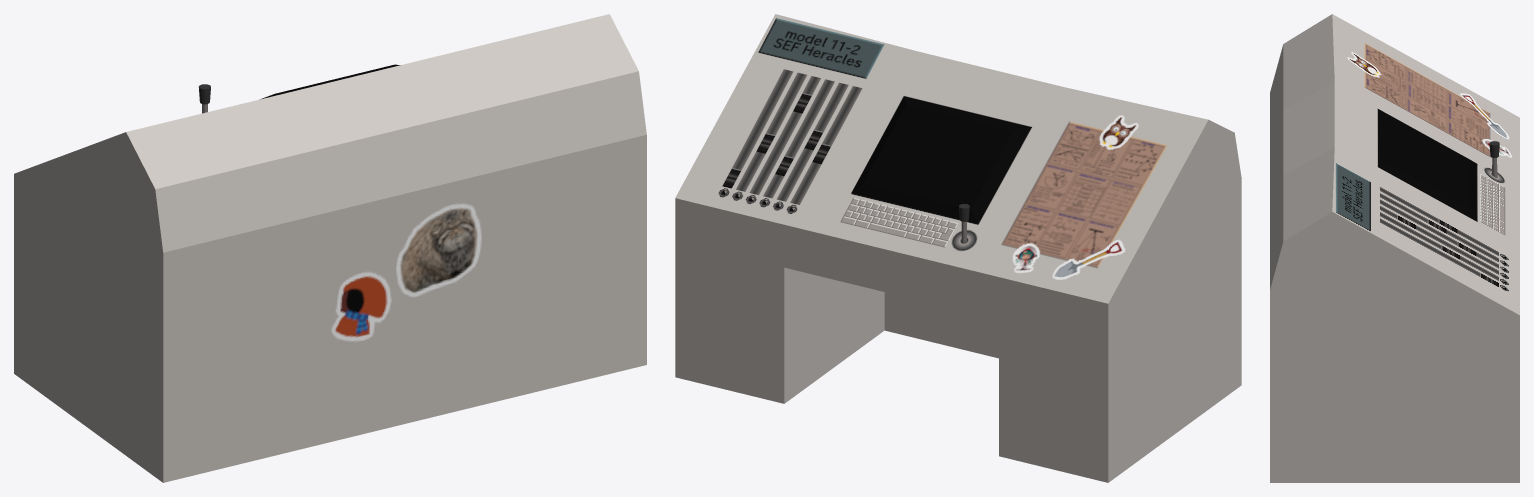
Rendered from Pilot Console.fbx.
3 renders of one model, left to right at view 1: azimuth 30°, elevation 25°; view 2: azimuth 150°, elevation 25°; view 3: azimuth 270°, elevation 25°, orthographic. The views are drawn at different scales.
Parts seen in each view (by area): view 1: PilotConsole; view 2: PilotConsole; view 3: PilotConsole.
Boxes of the visible parts, x1,y1,x2,y2 form: PilotConsole: (14,14,646,482); PilotConsole: (675,14,1241,482); PilotConsole: (1270,14,1519,482).
Bounding box in the file's own units: 165 × 106 × 88.15.
2 materials, 1 textured.
